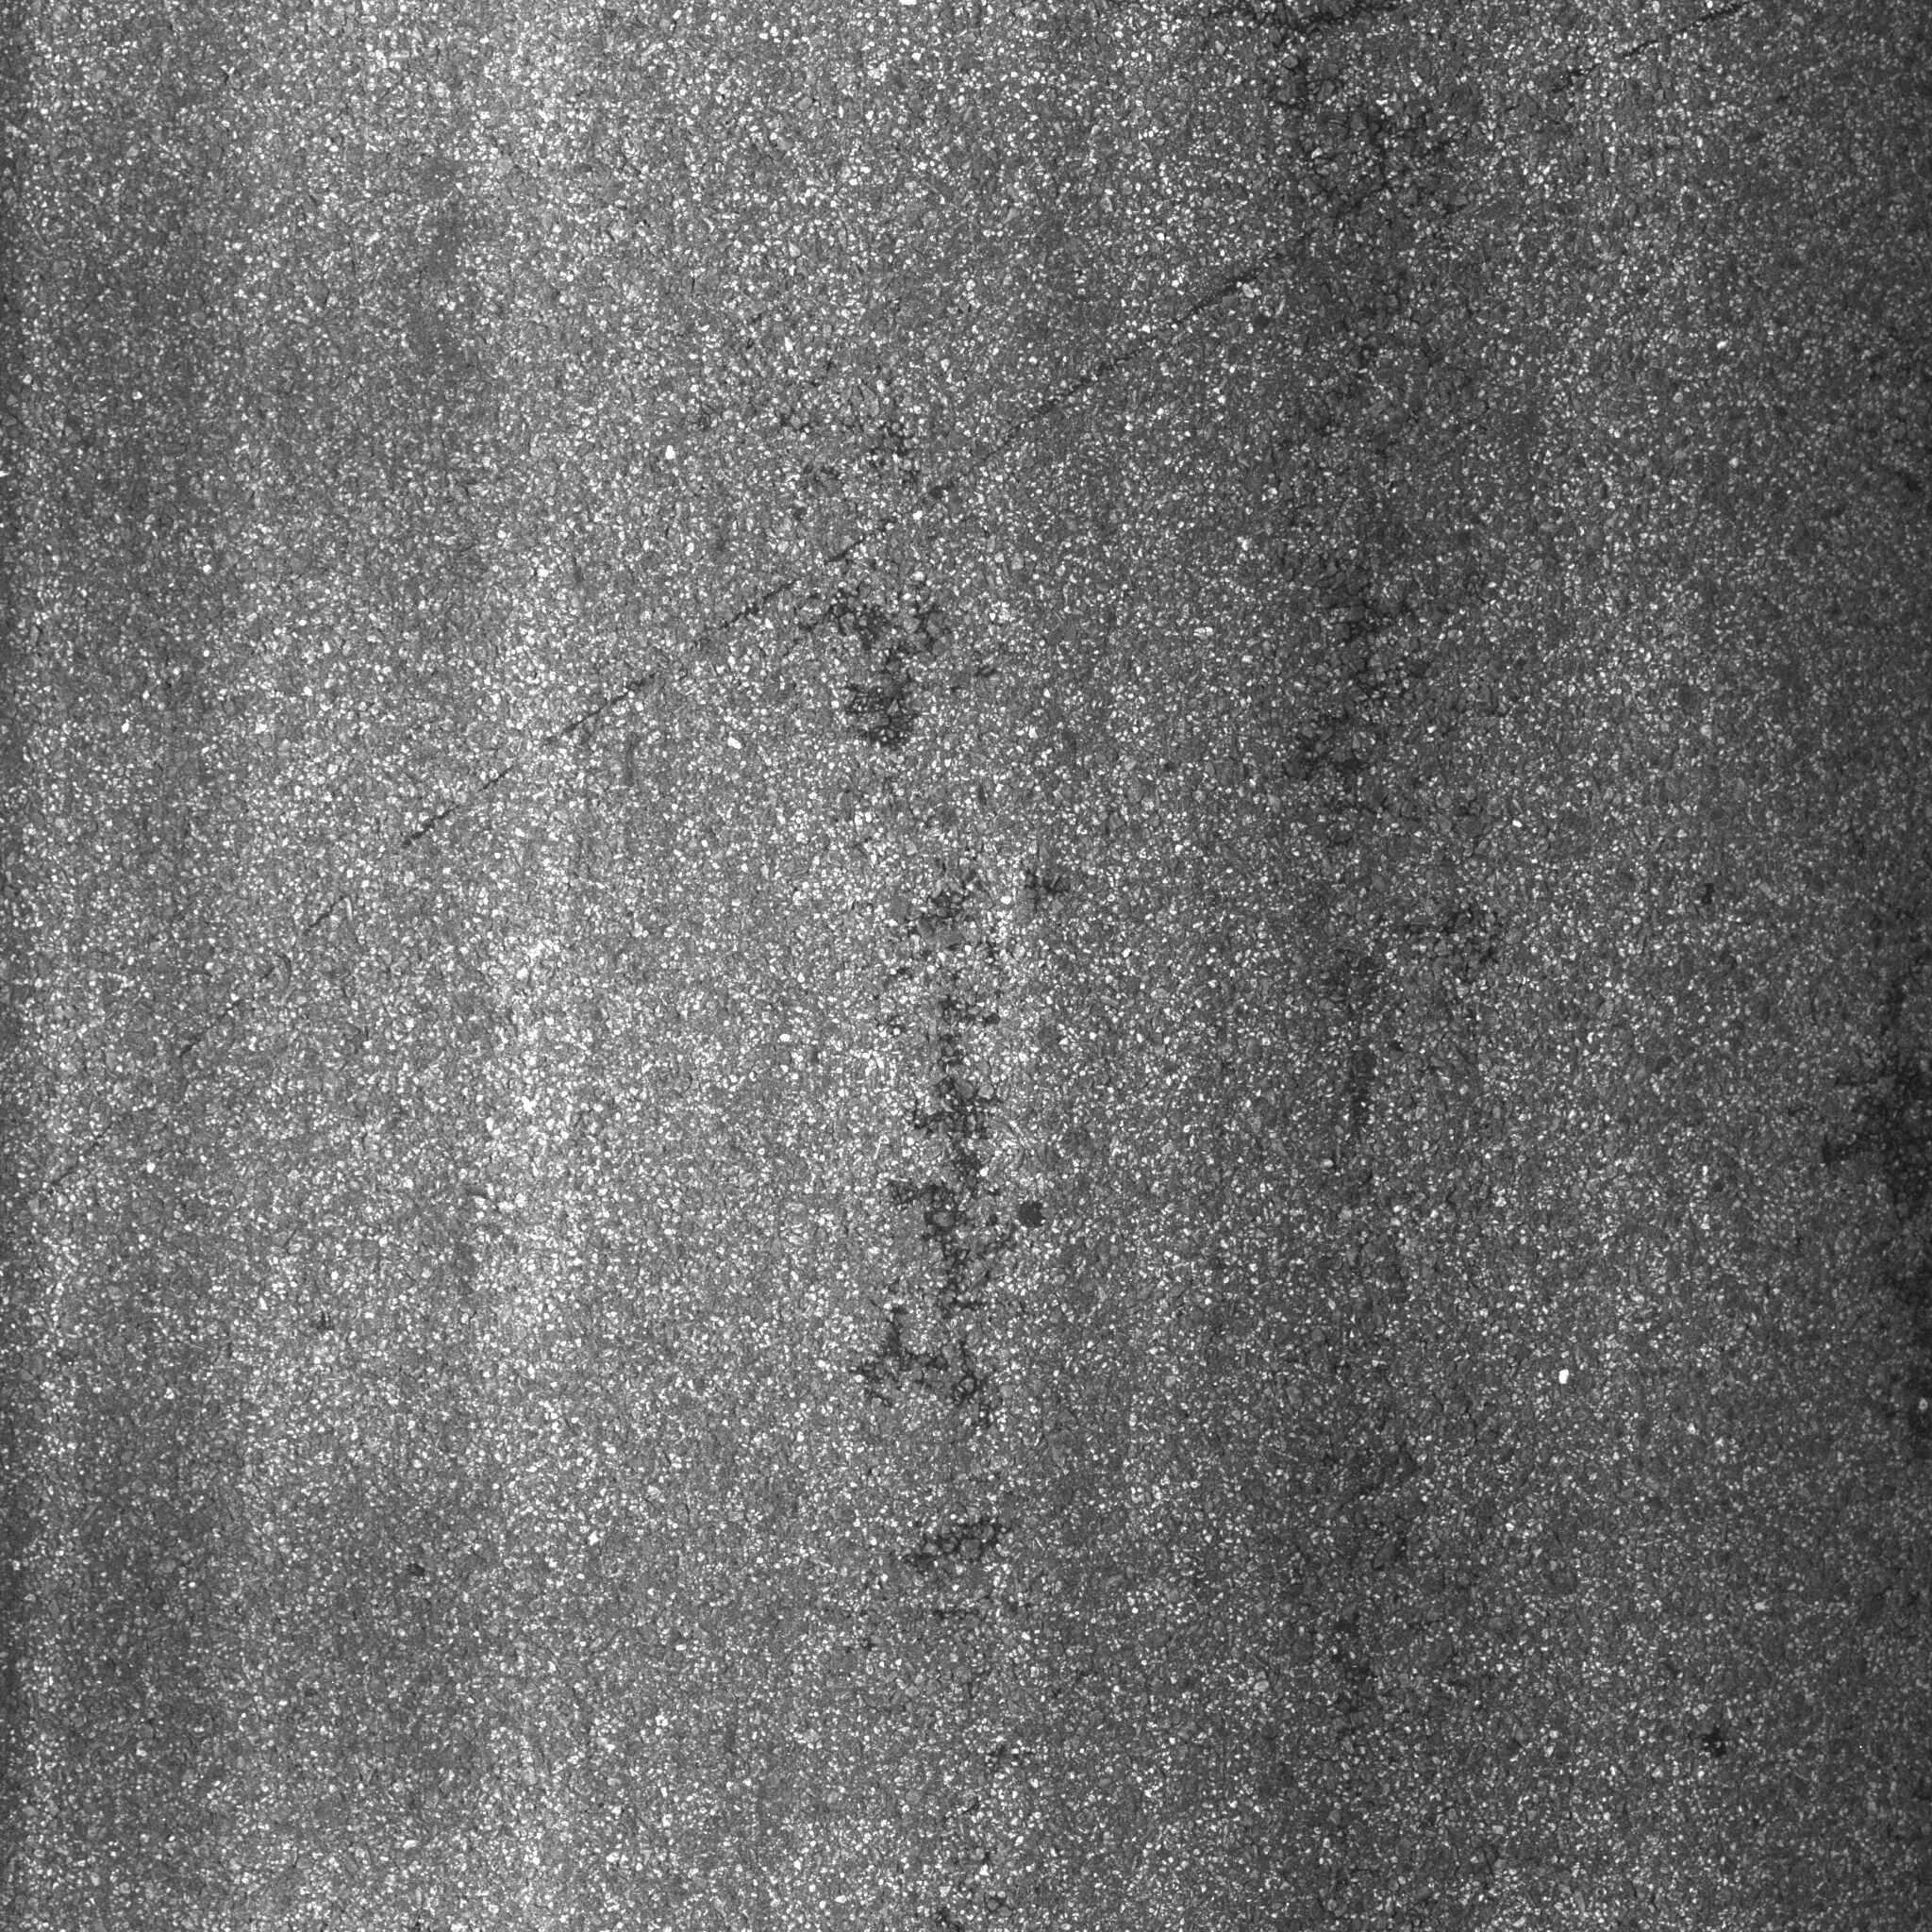transeverse: (4, 16, 1727, 1230)
